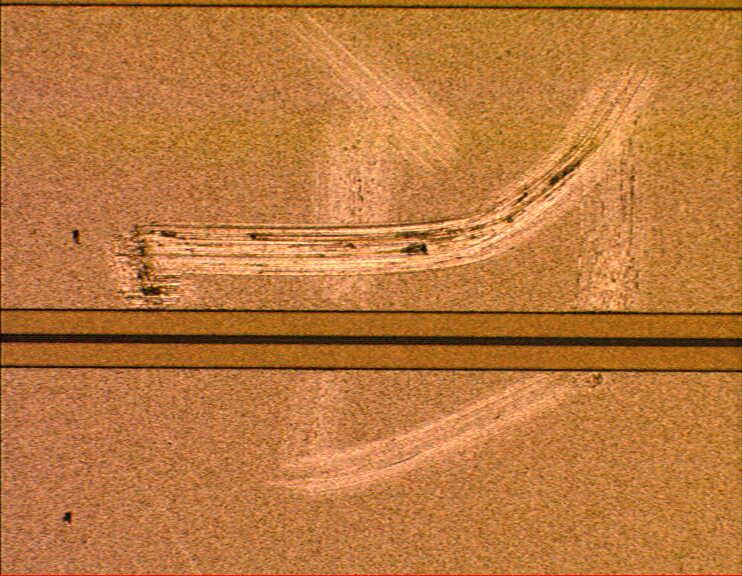SCRATCH: (103, 3, 654, 503)
